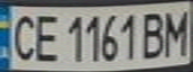1: (60, 11, 84, 63), (118, 10, 142, 61), (81, 11, 103, 62)
6: (100, 10, 121, 62)
B: (139, 8, 169, 59)
C: (6, 10, 39, 63)
E: (30, 10, 63, 63)
M: (160, 6, 193, 57)
